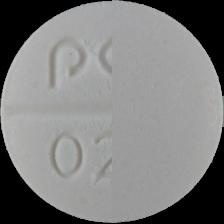50268-447: (0, 0, 224, 224)
